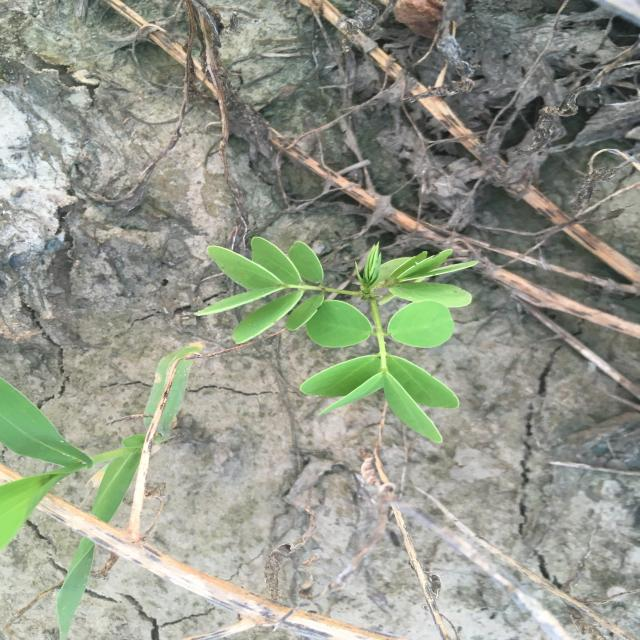Sicklepod: (192, 235, 482, 445)
